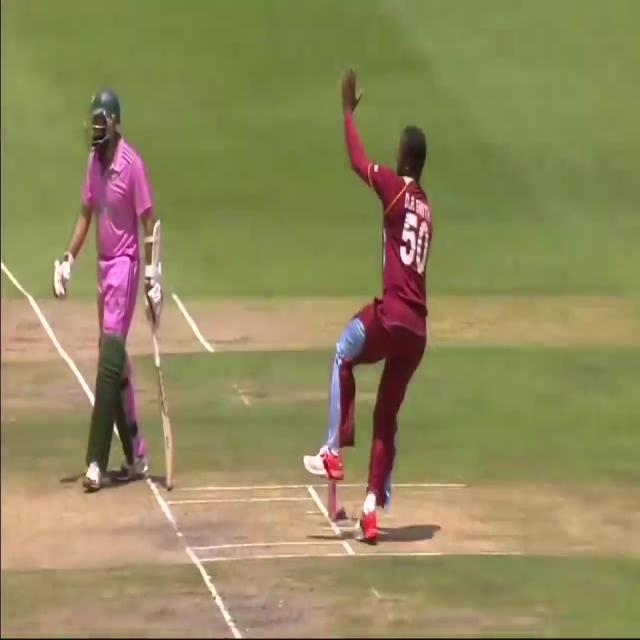Ball: (57, 89, 168, 498)
Fielder: (307, 66, 431, 536)
